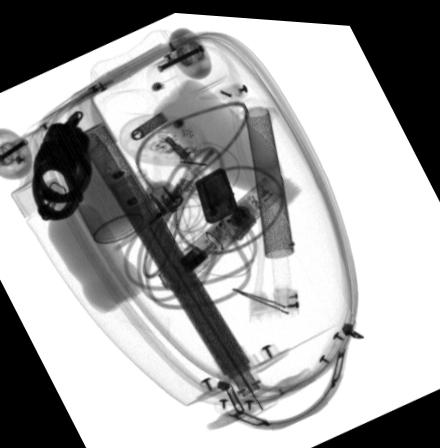Baton: (157, 171, 286, 287)
HandCuffs: (30, 106, 94, 221)
Lighter: (194, 164, 238, 219)
